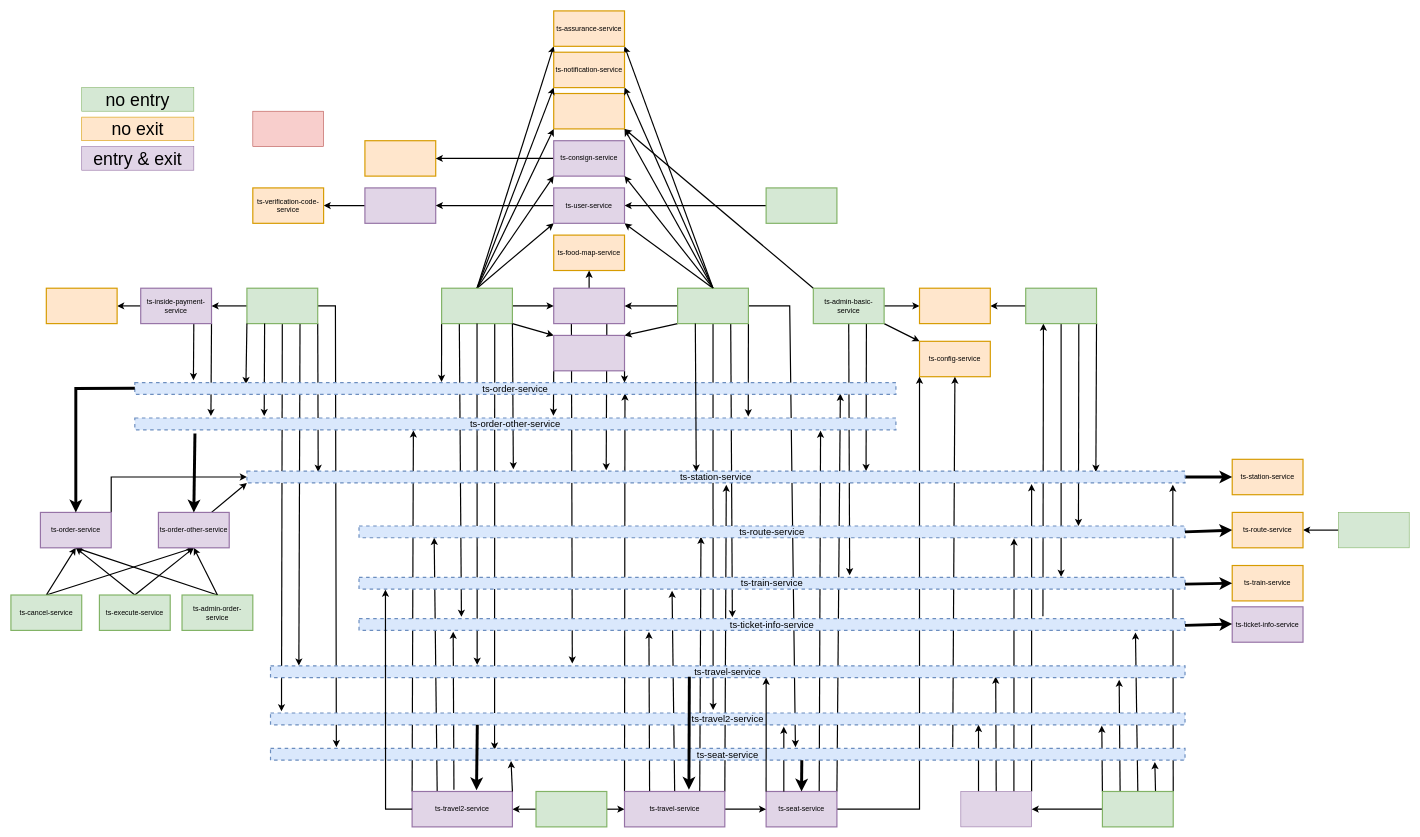
Image size: 1420x837. Some labels were removed from this diagram. The centre of each missing label's shape, as x and y in pixels:
"ts-admin-route-service" goes at pixel 1373 530.
"ts-admin-travel-service" goes at pixel 571 809.
"ts-admin-user-service" goes at pixel 801 205.
"ts-auth-service" goes at pixel 400 205.
"ts-basic-service" goes at pixel 1061 305.
"ts-consign-price-service" goes at pixel 400 158.
"ts-contacts-service" goes at pixel 589 111.
"ts-food-service" goes at pixel 589 305.
"ts-news-service" goes at pixel 288 129.
"ts-payment-service" goes at pixel 81 305.
"ts-preserve-other-service" goes at pixel 713 305.
"ts-preserve-service" goes at pixel 477 305.
"ts-price-service" goes at pixel 955 305.
"ts-rebook-service" goes at pixel 282 305.
"ts-route-plan-service" goes at pixel 996 809.
"ts-security-service" goes at pixel 589 353.
"ts-travel-plan-service" goes at pixel 1138 809.
